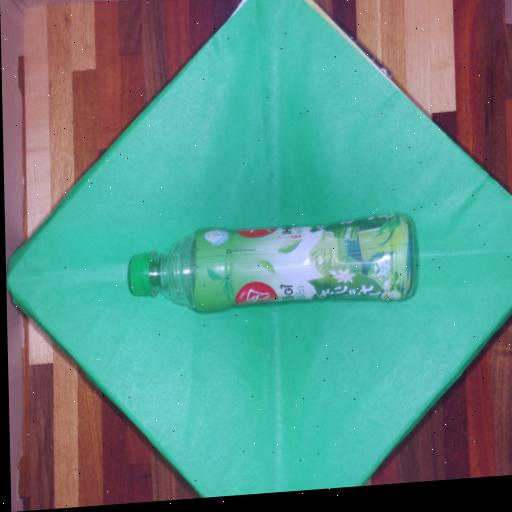bottle: (112, 189, 443, 335)
